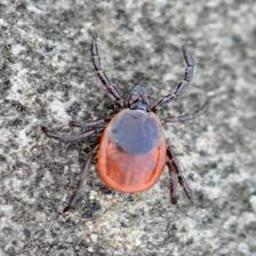Ixodes scapularis: (44, 41, 208, 210)
